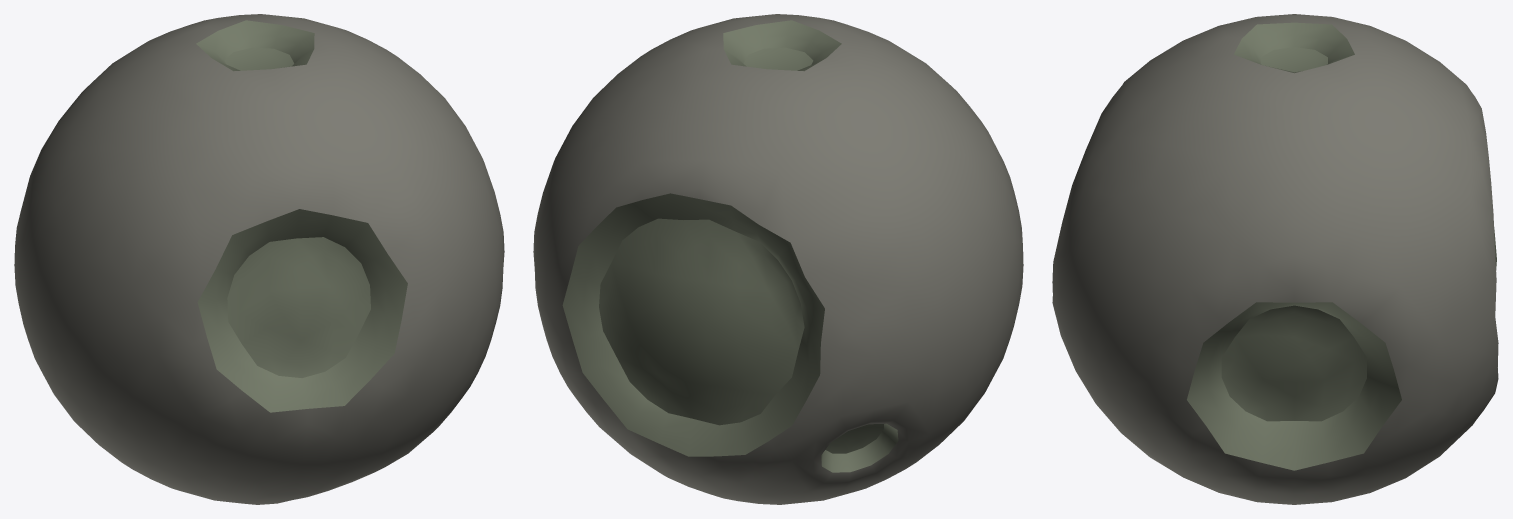
Rendered from quaternius-ultimate-space-planet-3-transformed.glb.
3 views of the same model, side by side, from view 1: azimuth 30°, elevation 25°; view 2: azimuth 150°, elevation 25°; view 3: azimuth 270°, elevation 25° (orthographic).
Visible parts, largest first — view 1: Planet_3; view 2: Planet_3; view 3: Planet_3.
Part boxes in pixels (x1=…): Planet_3: x1=14, y1=14, x2=504, y2=504; Planet_3: x1=533, y1=14, x2=1023, y2=504; Planet_3: x1=1052, y1=14, x2=1498, y2=504.
Size of the model in its own units: 3.63 by 3.65 by 3.38.
1 material, 1 textured.
